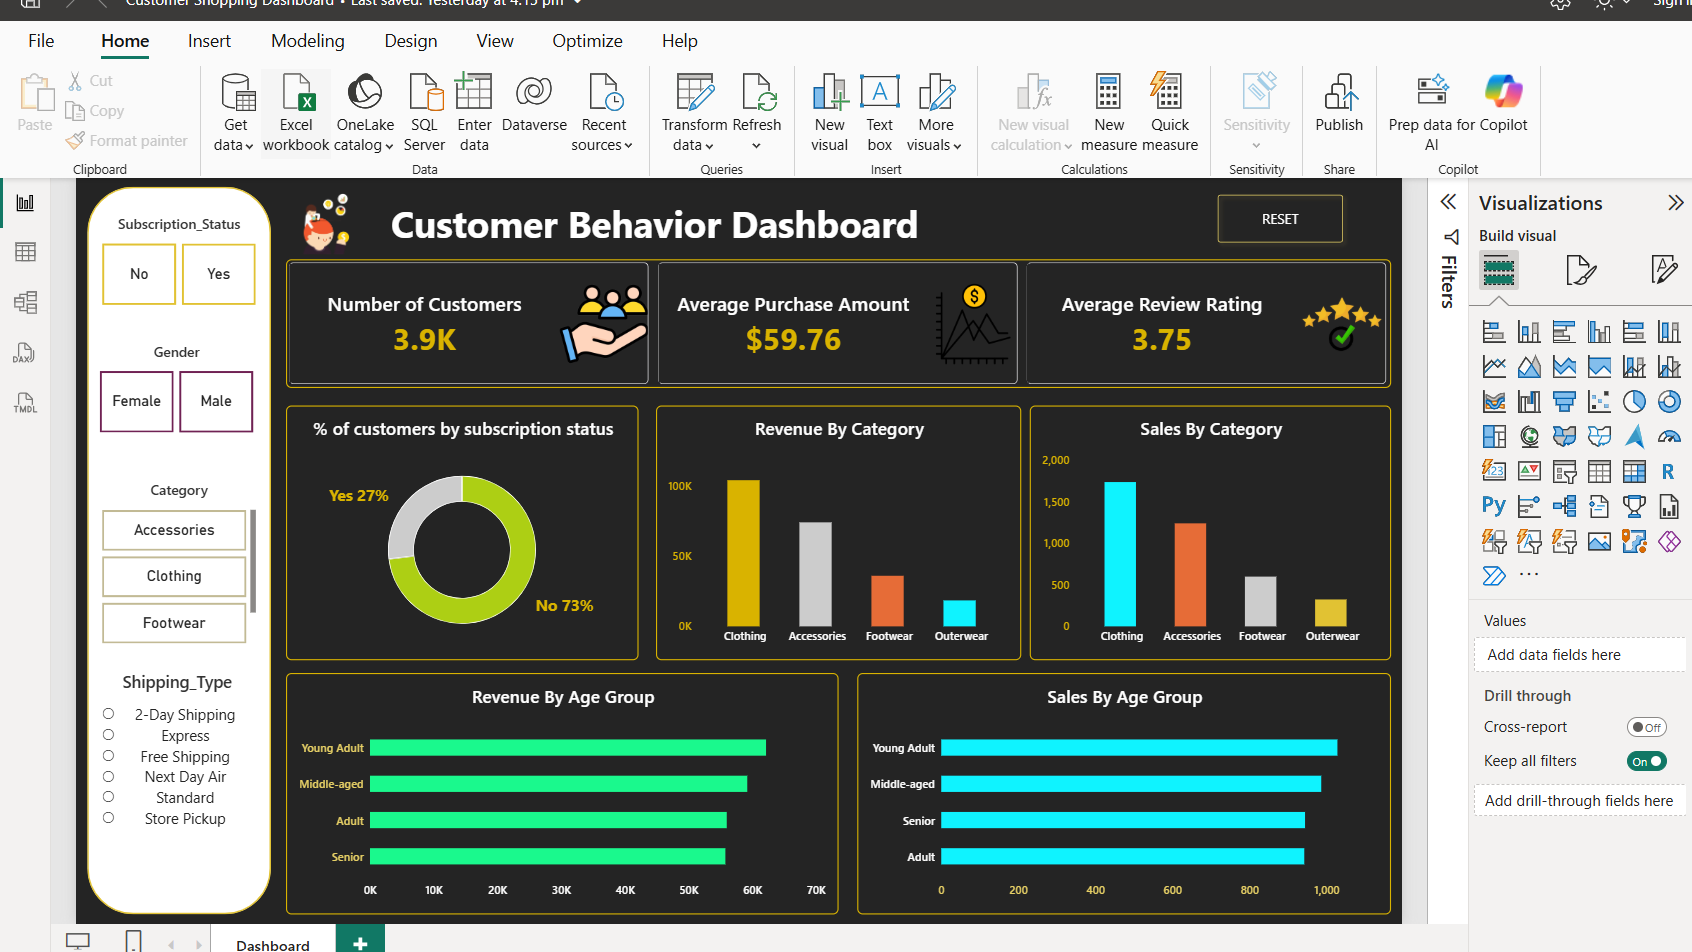

The dashboard page shown, as its layout file describes it:
{"tool":"powerbi","page":{"name":"Dashboard","canvas":[1920,1080],"ordinal":0},"visuals":[{"type":"textbox","box":[456,29,825.2,74.2],"z":0},{"type":"cardVisual","fields":{"Data":["public customer.Number of Customers","public customer.Average Purchase Amount","public customer.Average Review Rating"]},"box":[304,117.6,1599.7,186.4],"z":1},{"type":"donutChart","title":"% of customers by subscription status","fields":{"Category":["public customer.subscription_status"],"Y":["CountNonNull(public customer.customer_id)"]},"box":[304,329.4,510.3,369.2],"z":3},{"type":"clusteredColumnChart","title":"Revenue By Category","fields":{"Category":["public customer.category"],"Y":["Sum(public customer.purchase_amount)"]},"box":[839.7,329.4,528.4,369.2],"z":4},{"type":"clusteredColumnChart","title":"Sales By Category","fields":{"Category":["public customer.category"],"Y":["CountNonNull(public customer.customer_id)"]},"box":[1380.8,329.4,523,369.2],"z":5},{"type":"shape","box":[16.3,12.7,266,1053.2],"z":6},{"type":"advancedSlicerVisual","fields":{"Values":["public customer.subscription_status"]},"box":[38,52.5,222.6,132.1],"z":7},{"type":"advancedSlicerVisual","fields":{"Values":["public customer.gender"]},"box":[34.4,237.1,222.6,132.1],"z":8},{"type":"advancedSlicerVisual","title":"Category","fields":{"Values":["public customer.category"]},"box":[38,437.9,222.6,237.1],"z":9},{"type":"listSlicer","title":"Shipping_Type","fields":{"Values":["public customer.shipping_type"]},"box":[21.7,698.5,249.7,311.3],"z":10},{"type":"clusteredBarChart","title":"Revenue  By Age Group ","fields":{"Category":["public customer.age_group"],"Y":["Sum(public customer.purchase_amount)"]},"box":[304,716.6,799.9,349.3],"z":11},{"type":"clusteredBarChart","title":"Sales By Age Group ","fields":{"Category":["public customer.age_group"],"Y":["CountNonNull(public customer.customer_id)"]},"box":[1131,716.6,772.7,349.3],"z":12},{"type":"image","box":[282.3,21.7,152,88.7],"z":13},{"type":"actionButton","box":[1643.2,14.5,200.9,88.7],"z":14}]}

Visuals, with their boxes on the page's 1920x1080 design canvas (x1, y1, x2, y2). These are canvas units, not pixel positions in the 1692x952 screenshot, which may show the page scaled, cropped or inside an application window:
textbox: [left=456, top=29, right=1281, bottom=103]
cardVisual - public customer.Number of Customers x public customer.Average Purchase Amount: [left=304, top=118, right=1904, bottom=304]
"% of customers by subscription status" donutChart: [left=304, top=329, right=814, bottom=699]
"Revenue By Category" clusteredColumnChart: [left=840, top=329, right=1368, bottom=699]
"Sales By Category" clusteredColumnChart: [left=1381, top=329, right=1904, bottom=699]
shape: [left=16, top=13, right=282, bottom=1066]
advancedSlicerVisual - public customer.subscription_status: [left=38, top=52, right=261, bottom=185]
advancedSlicerVisual - public customer.gender: [left=34, top=237, right=257, bottom=369]
"Category" advancedSlicerVisual: [left=38, top=438, right=261, bottom=675]
"Shipping_Type" listSlicer: [left=22, top=698, right=271, bottom=1010]
"Revenue  By Age Group " clusteredBarChart: [left=304, top=717, right=1104, bottom=1066]
"Sales By Age Group " clusteredBarChart: [left=1131, top=717, right=1904, bottom=1066]
image: [left=282, top=22, right=434, bottom=110]
actionButton: [left=1643, top=14, right=1844, bottom=103]
